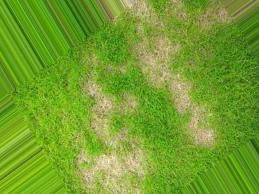patch: (136, 33, 181, 70), (88, 117, 131, 143), (78, 82, 117, 109), (80, 158, 117, 184), (167, 80, 201, 105), (191, 120, 219, 141), (122, 151, 147, 171)
